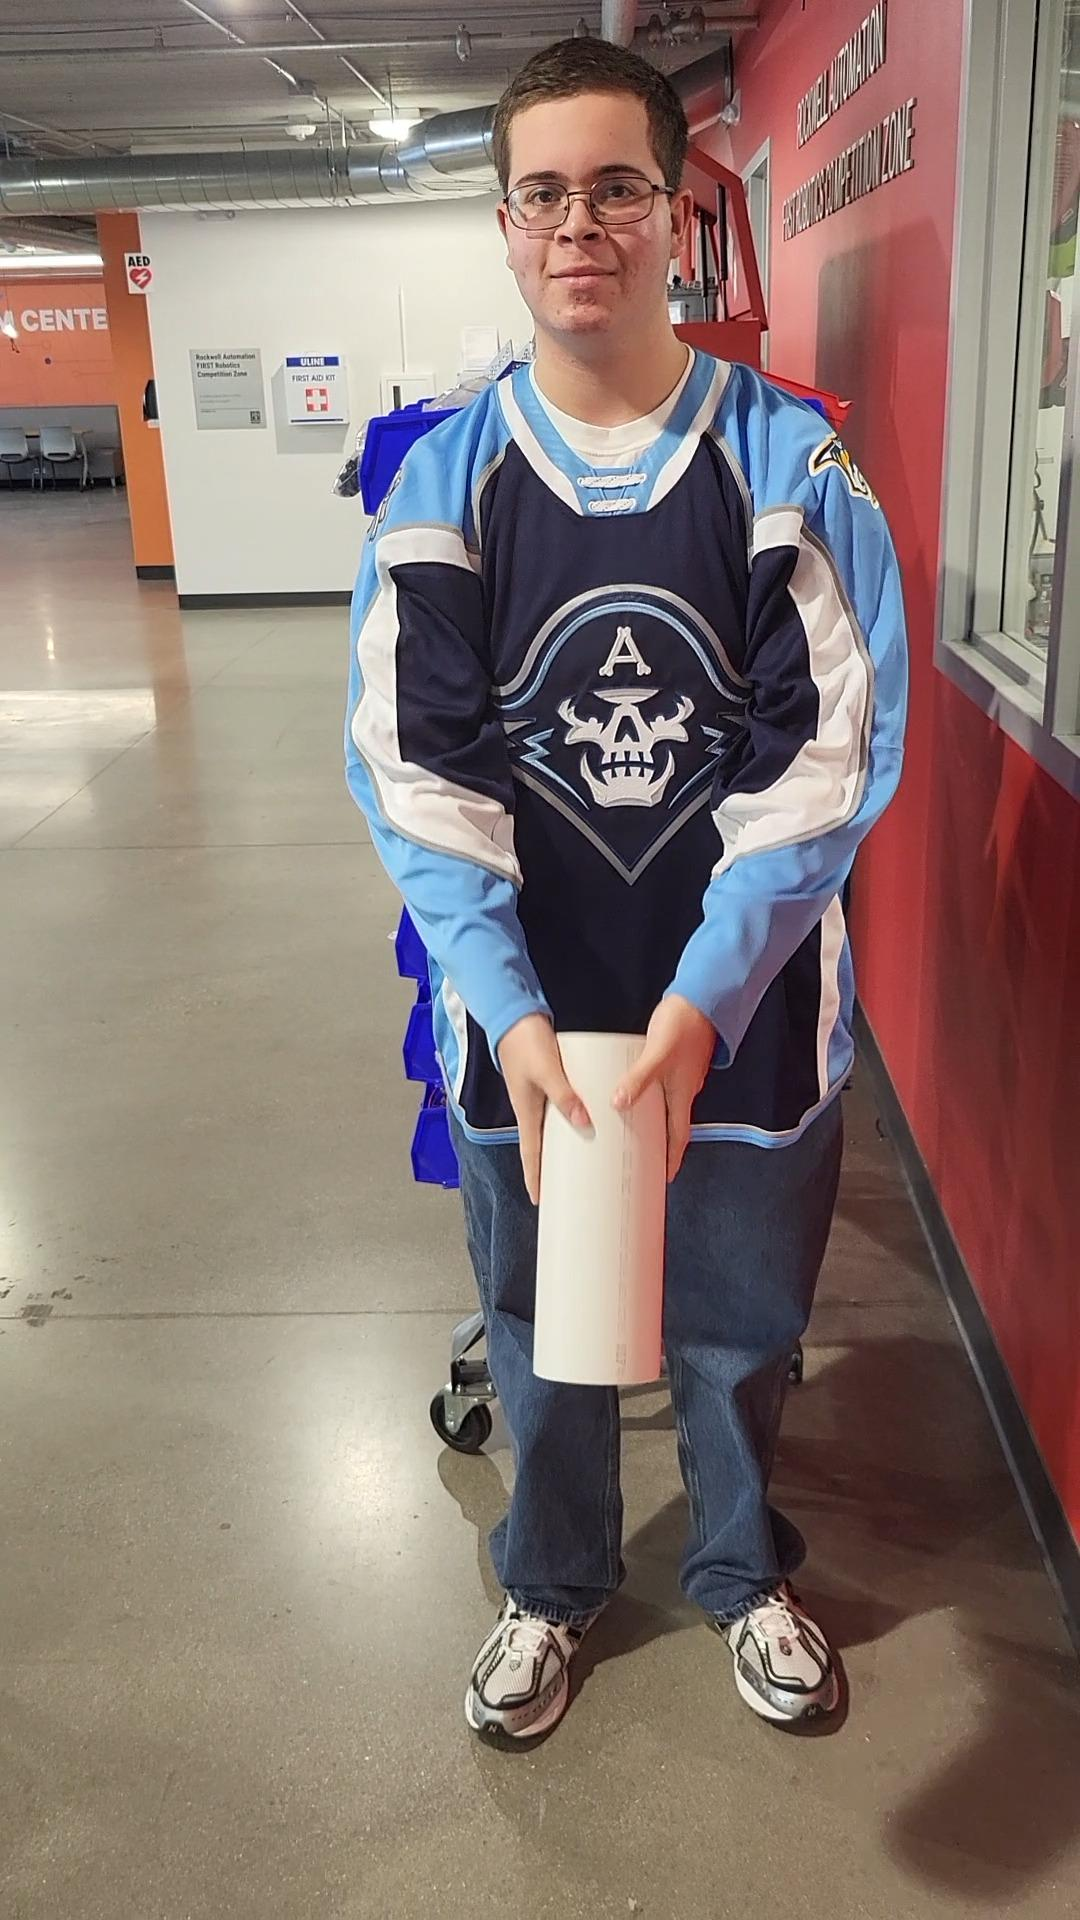coral: (524, 1021, 690, 1394)
